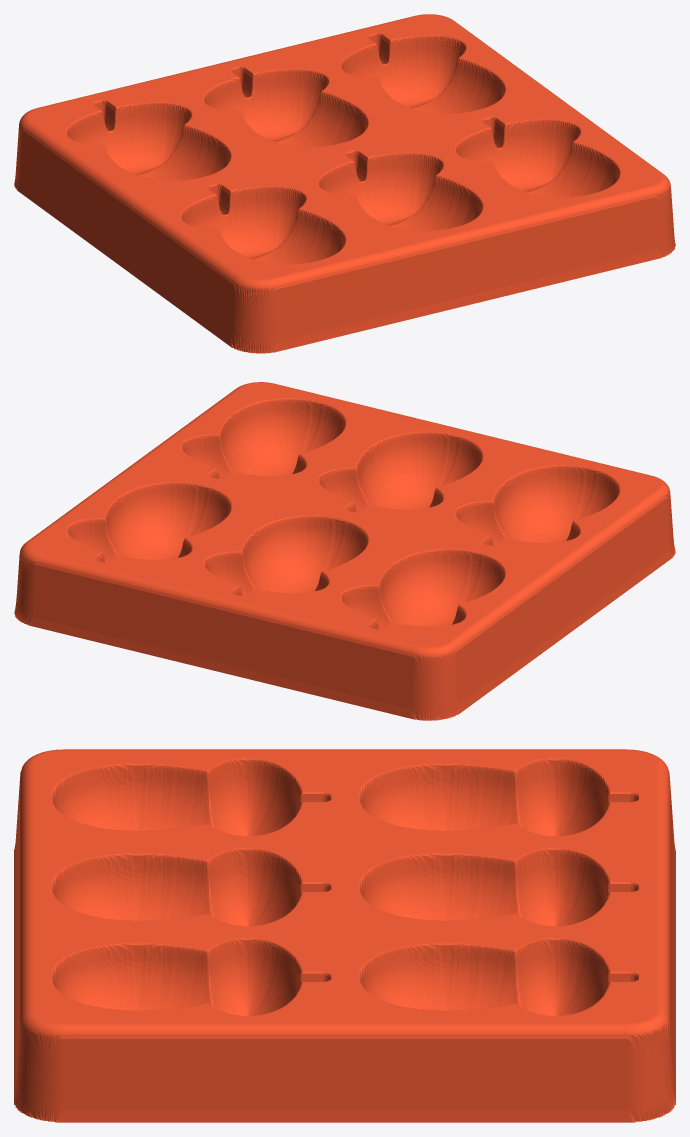
File: mold.glb
3 views of the same model, one above another, from view 1: azimuth 30°, elevation 25°; view 2: azimuth 150°, elevation 25°; view 3: azimuth 270°, elevation 25° (orthographic). The views are drawn at different scales.
Visible parts, largest first — view 1: geometry_0; view 2: geometry_0; view 3: geometry_0.
Part boxes in pixels (bbox=[...]): geometry_0: bbox=[14, 14, 675, 353]; geometry_0: bbox=[14, 382, 675, 720]; geometry_0: bbox=[14, 749, 675, 1122].
Bounding box in the file's own units: 0.1264 × 0.0185 × 0.1222.
